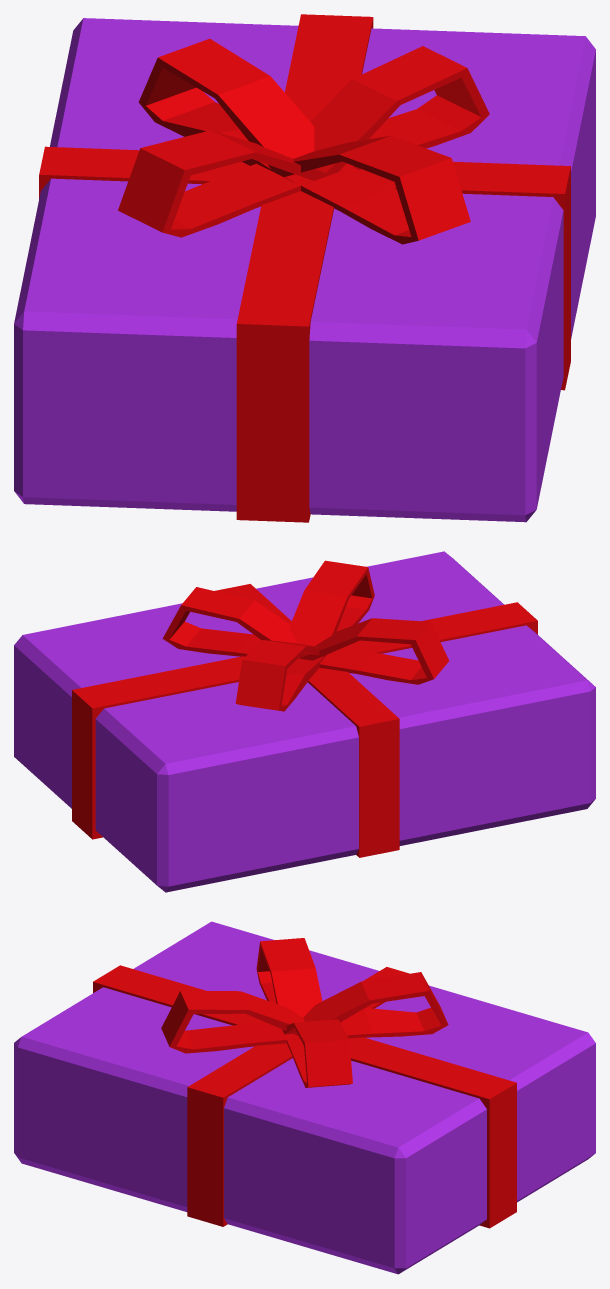
The model's file is gift3.fbx.
3 views of the same model, one above another, from view 1: azimuth 30°, elevation 25°; view 2: azimuth 150°, elevation 25°; view 3: azimuth 270°, elevation 25° (orthographic). The views are drawn at different scales.
Visible parts, largest first — view 1: PurpleGift; view 2: PurpleGift; view 3: PurpleGift.
Part boxes in pixels (x1,y1,x2,y2): PurpleGift: (14,14,595,522); PurpleGift: (14,551,595,892); PurpleGift: (14,921,595,1274).
Bounding box in the file's own units: 73.31 × 25.26 × 78.11.
